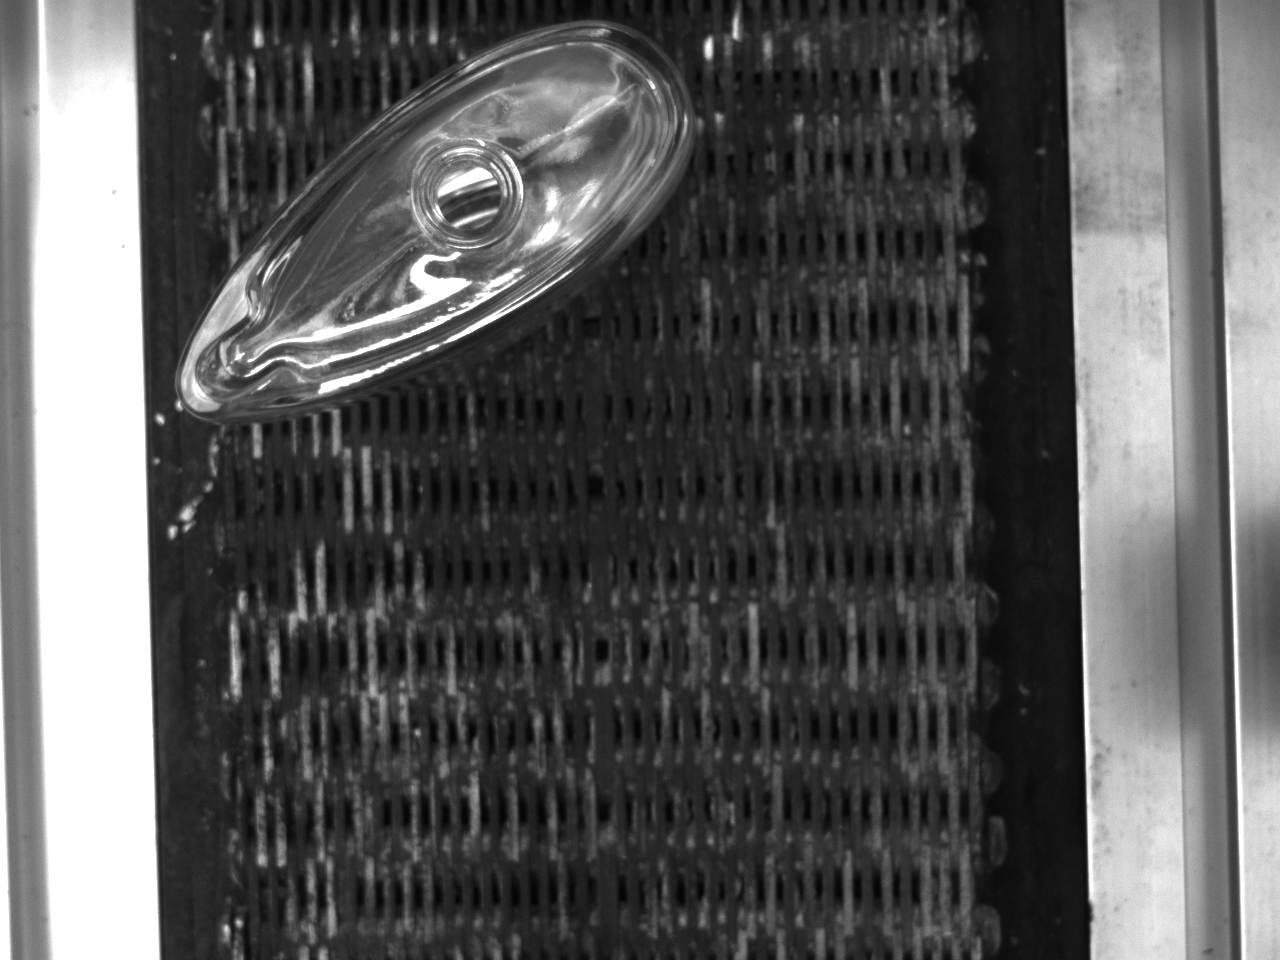bottleneck: (413, 138, 526, 249)
